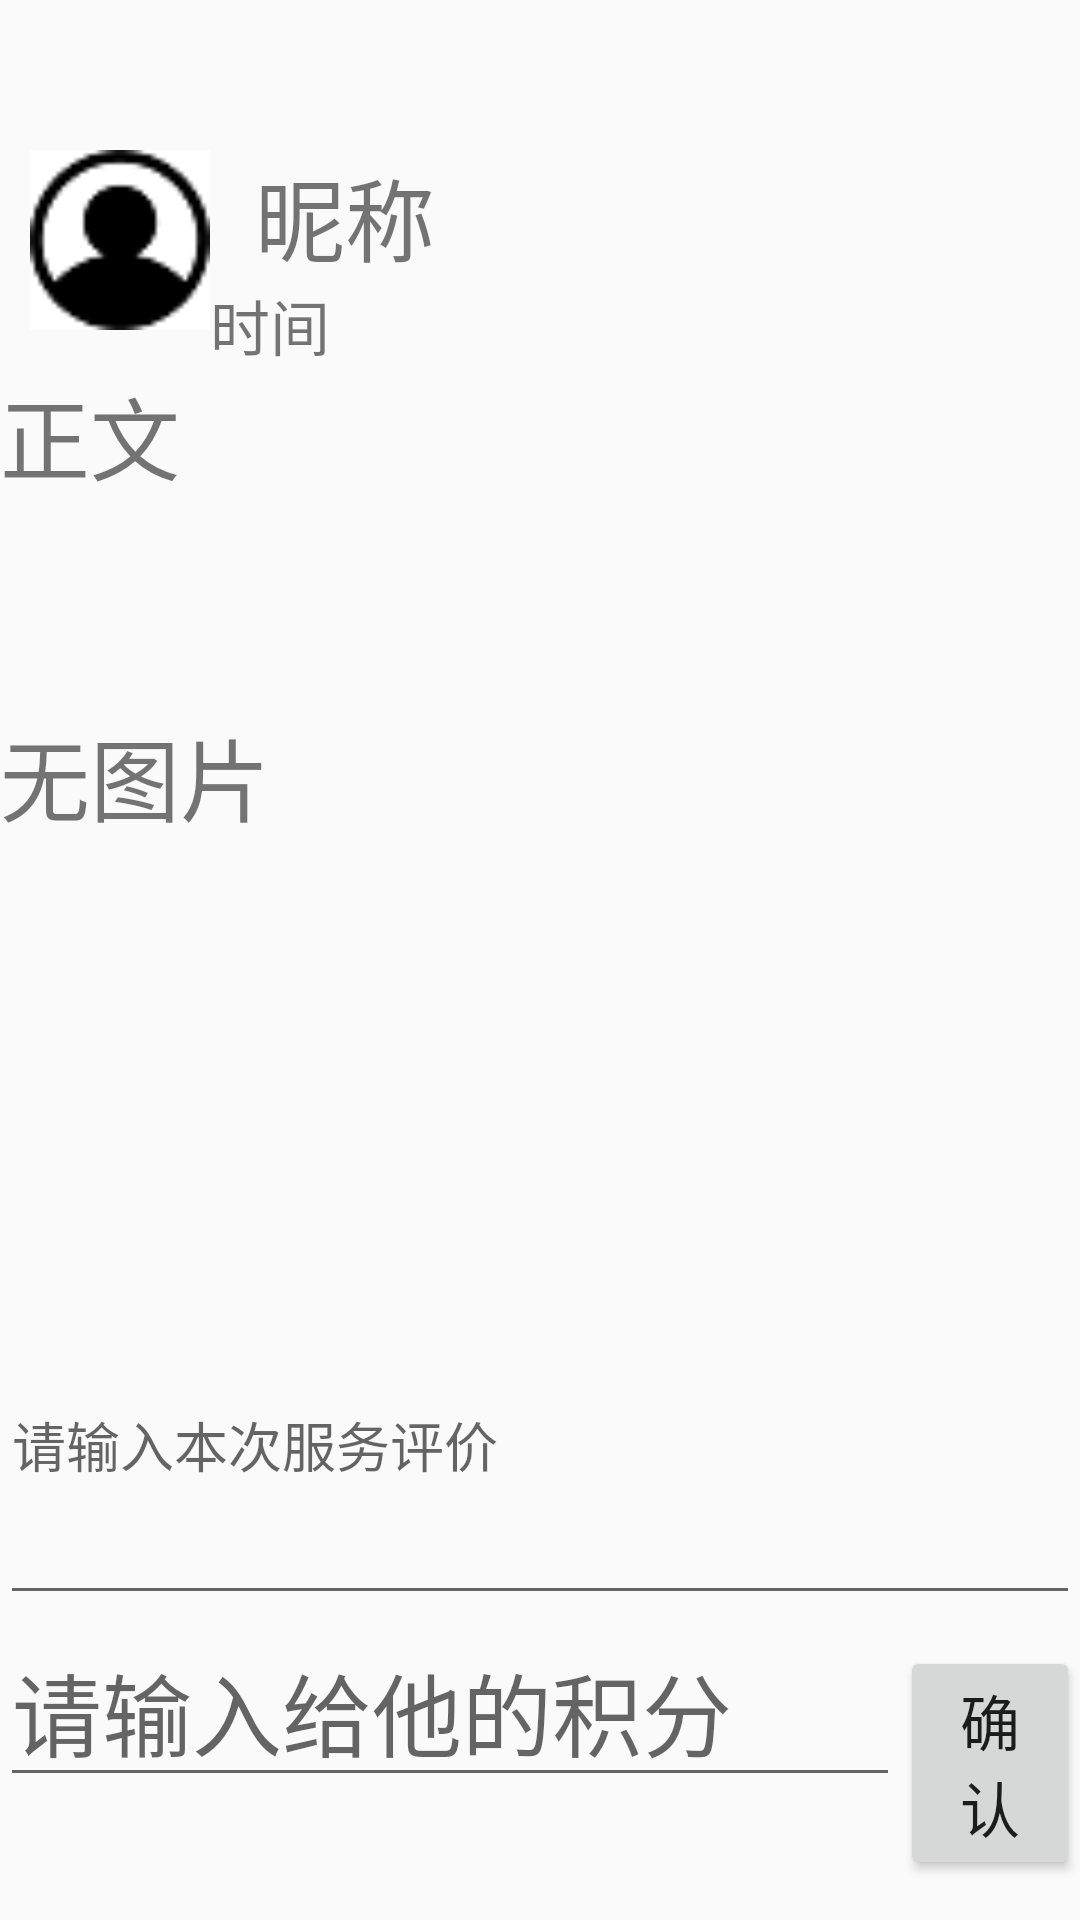

Named icons in this screenshot (1080 × 1920) and their bounding boxes, (x1, y1, x2, y2):
defaulthead: (30, 150, 210, 330)
